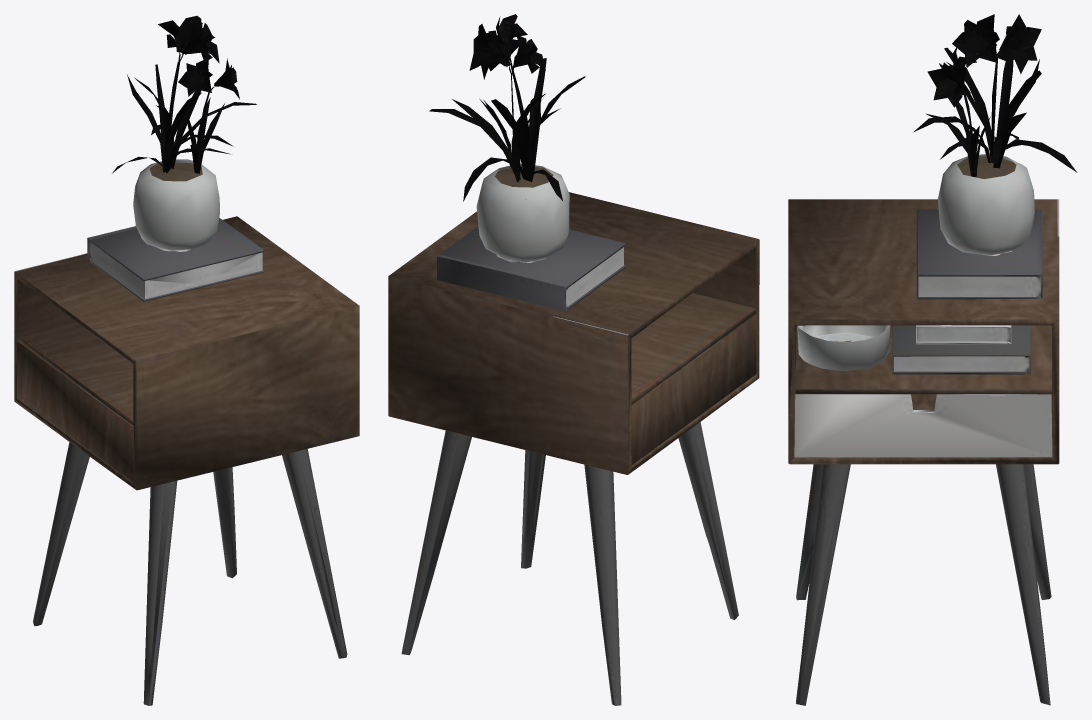
File: Cupboard0005.obj
The picture shows the model from 3 angles, left to right: view 1: azimuth 30°, elevation 25°; view 2: azimuth 150°, elevation 25°; view 3: azimuth 270°, elevation 25°; orthographic projection. The views are drawn at different scales.
Bounding box in the file's own units: 0.328 × 0.828 × 0.331.
1 material, 1 textured.
